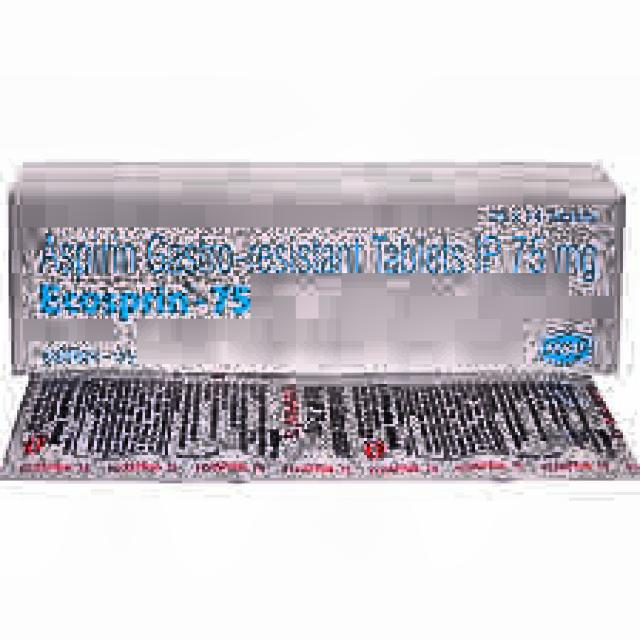Aspirin: (9, 192, 624, 376)
